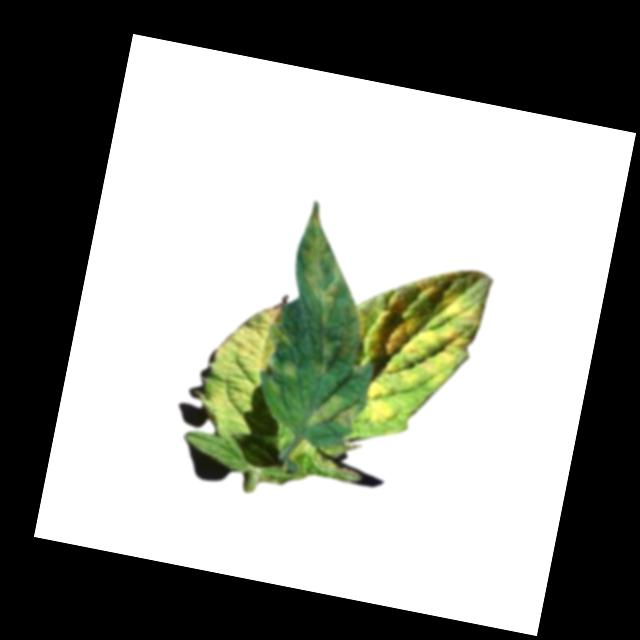Leaf_Mold: (346, 249, 492, 397), (195, 292, 288, 431), (284, 208, 353, 331), (299, 385, 359, 432), (359, 378, 401, 430), (310, 335, 338, 379)
